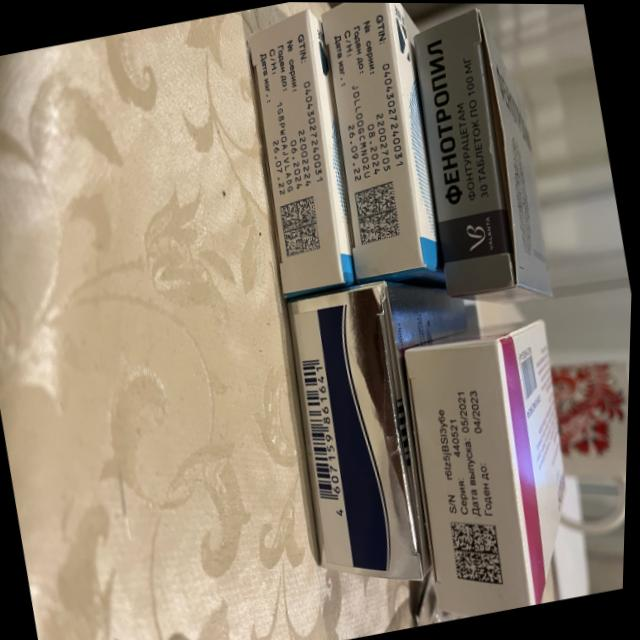datamatrix: (450, 514, 511, 593), (352, 181, 406, 247), (278, 197, 325, 259)
